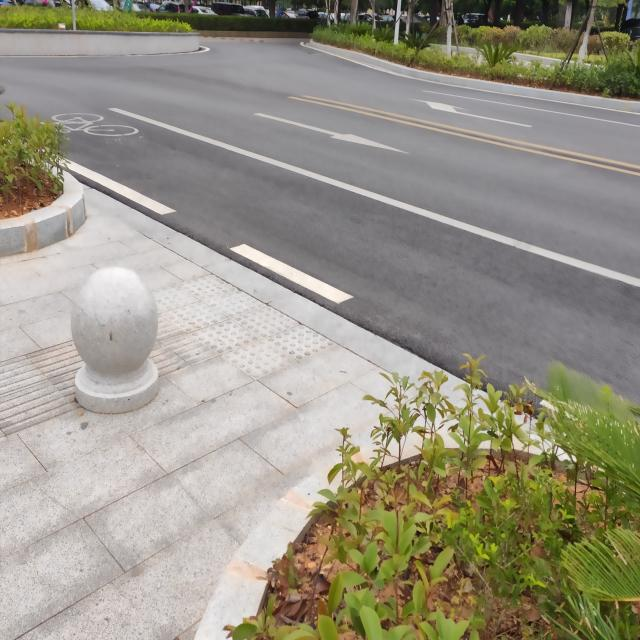car: (154, 1, 185, 13), (243, 6, 270, 18), (190, 5, 217, 15), (277, 11, 299, 18)
spherical_roadblock: (66, 264, 162, 415)
